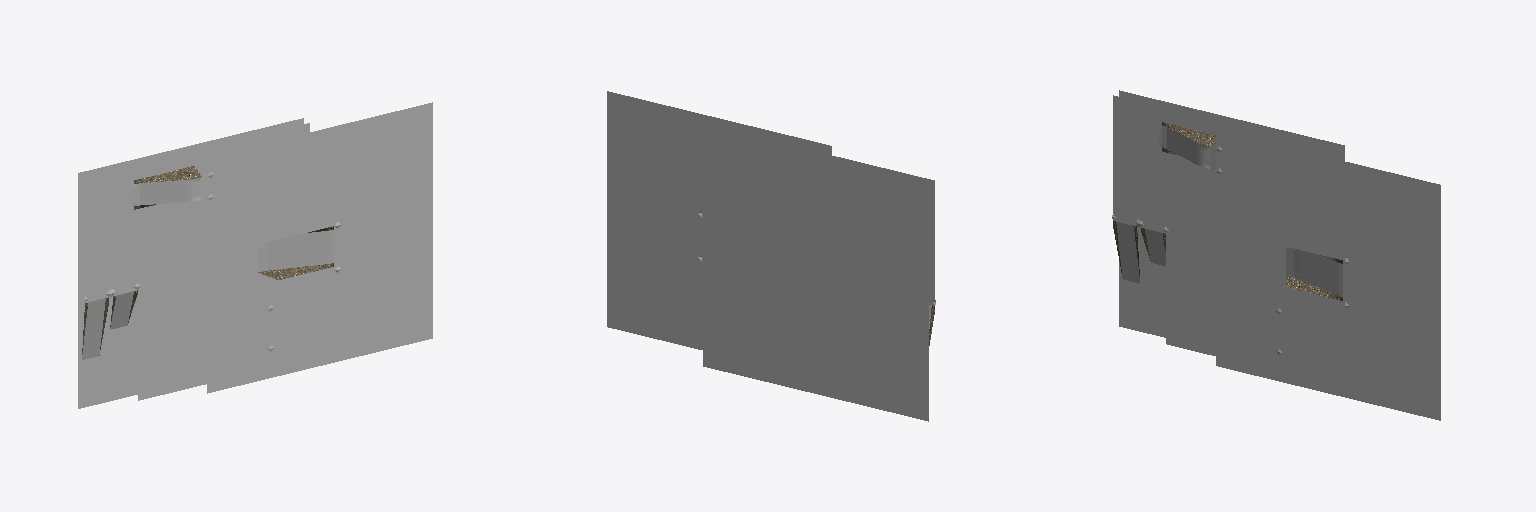
The picture shows the model from 3 angles: view 1: azimuth 30°, elevation 25°; view 2: azimuth 150°, elevation 25°; view 3: azimuth 330°, elevation 25°; orthographic projection.
Parts seen in each view (by area): view 1: Mesh; view 2: Mesh; view 3: Mesh.
Part boxes in pixels (x1,y1,x2,y2): Mesh: (78, 102, 432, 408); Mesh: (607, 91, 935, 421); Mesh: (1112, 90, 1440, 420).
Bounding box in the file's own units: 300 × 200 × 25.99.
Materials: 2 (1 with a texture image).